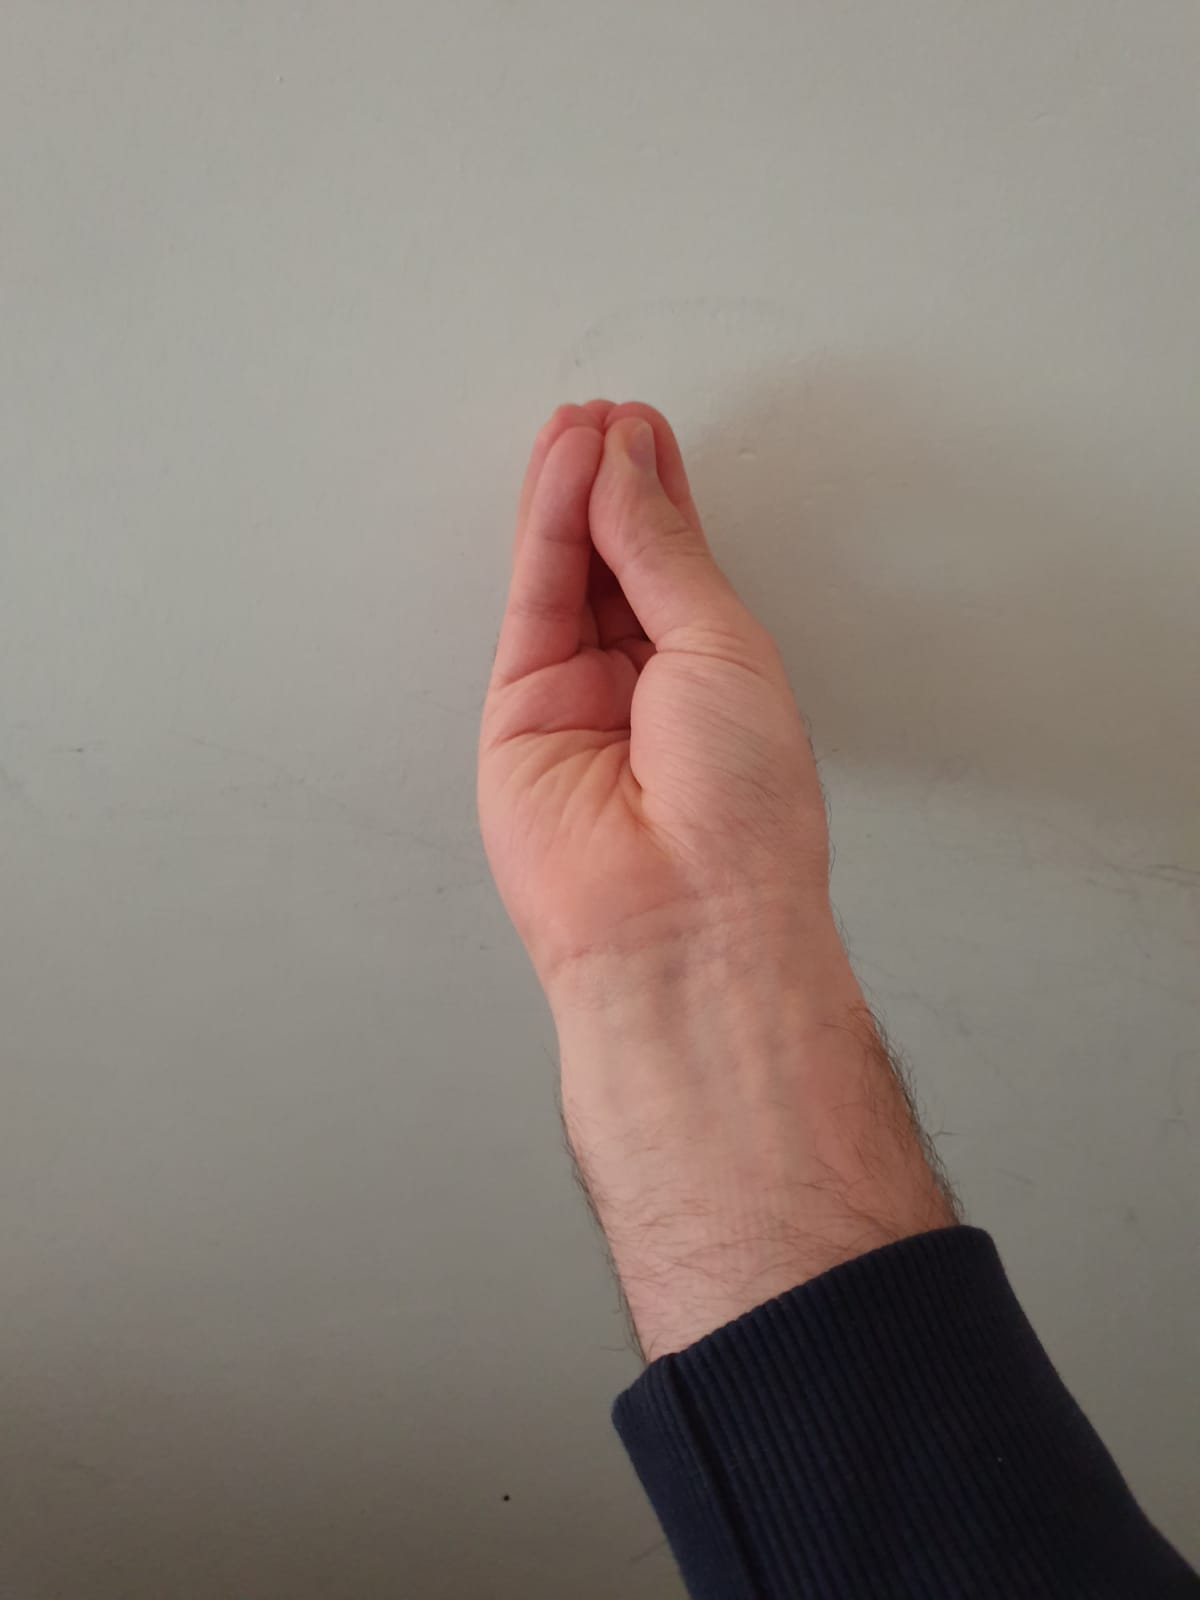Perfect: (475, 401, 966, 1364)
